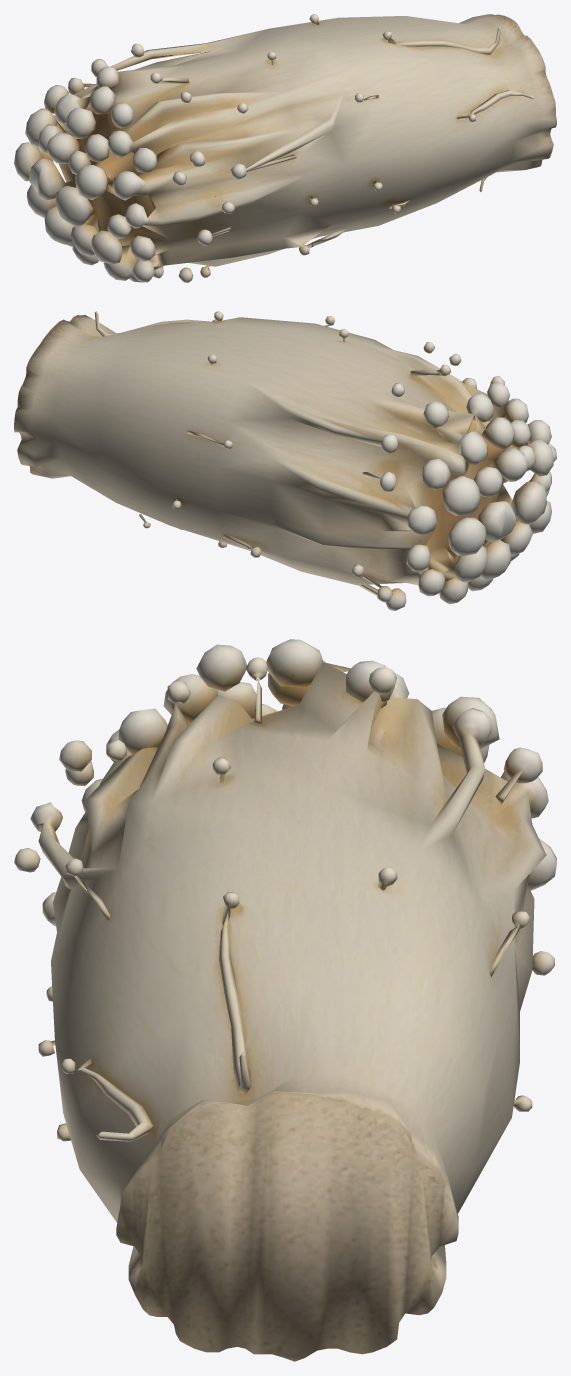
The picture shows the model from 3 angles, top to bottom: view 1: azimuth 30°, elevation 25°; view 2: azimuth 150°, elevation 25°; view 3: azimuth 270°, elevation 25°; orthographic projection. The views are drawn at different scales.
Parts seen in each view (by area): view 1: Enoki Mushroom; view 2: Enoki Mushroom; view 3: Enoki Mushroom.
Boxes of the visible parts, left/top/right/bottom form: Enoki Mushroom: left=14, top=14, right=556, bottom=282; Enoki Mushroom: left=14, top=311, right=556, bottom=610; Enoki Mushroom: left=14, top=639, right=556, bottom=1361.
Bounding box in the file's own units: 0.998 × 0.4551 × 0.5176.
1 material, 1 textured.
